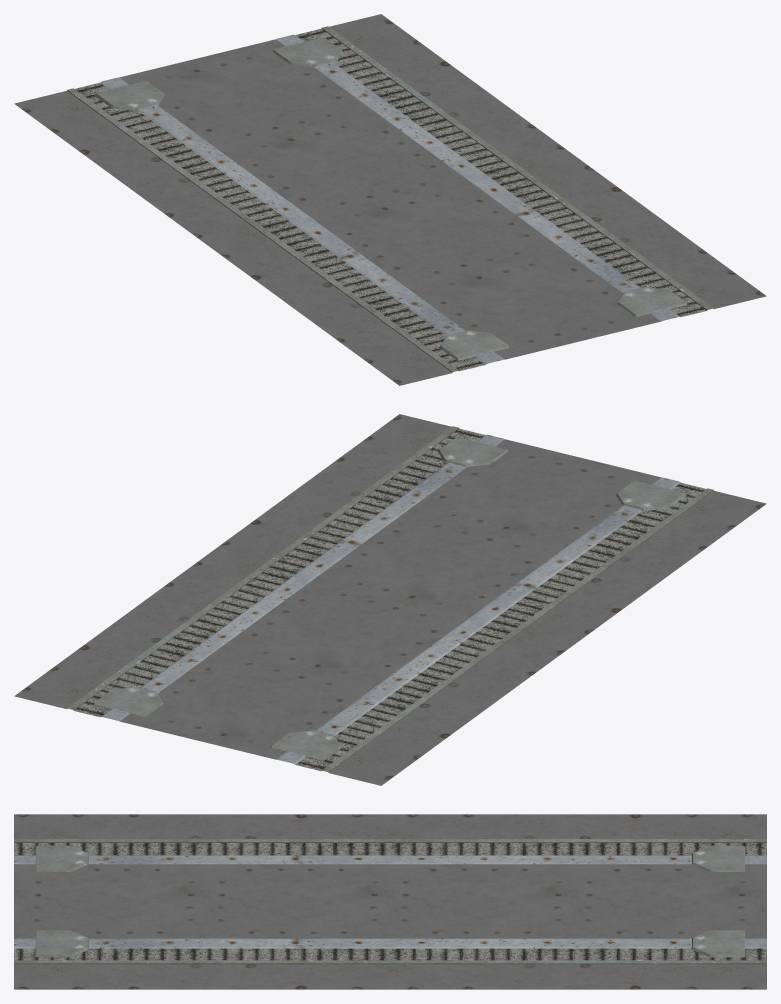
File: Ob_RoadBump2_RC.fbx
The picture shows the model from 3 angles, top to bottom: view 1: azimuth 30°, elevation 25°; view 2: azimuth 150°, elevation 25°; view 3: azimuth 270°, elevation 25°; orthographic projection. The views are drawn at different scales.
Parts seen in each view (by area): view 1: Ob_RoadBump2_RC; view 2: Ob_RoadBump2_RC; view 3: Ob_RoadBump2_RC.
Boxes of the visible parts, x1,y1,x2,y2 form: Ob_RoadBump2_RC: (14,14,766,385); Ob_RoadBump2_RC: (14,414,766,785); Ob_RoadBump2_RC: (14,814,766,989).
Bounding box in the file's own units: 550 × 4.09 × 1000.
